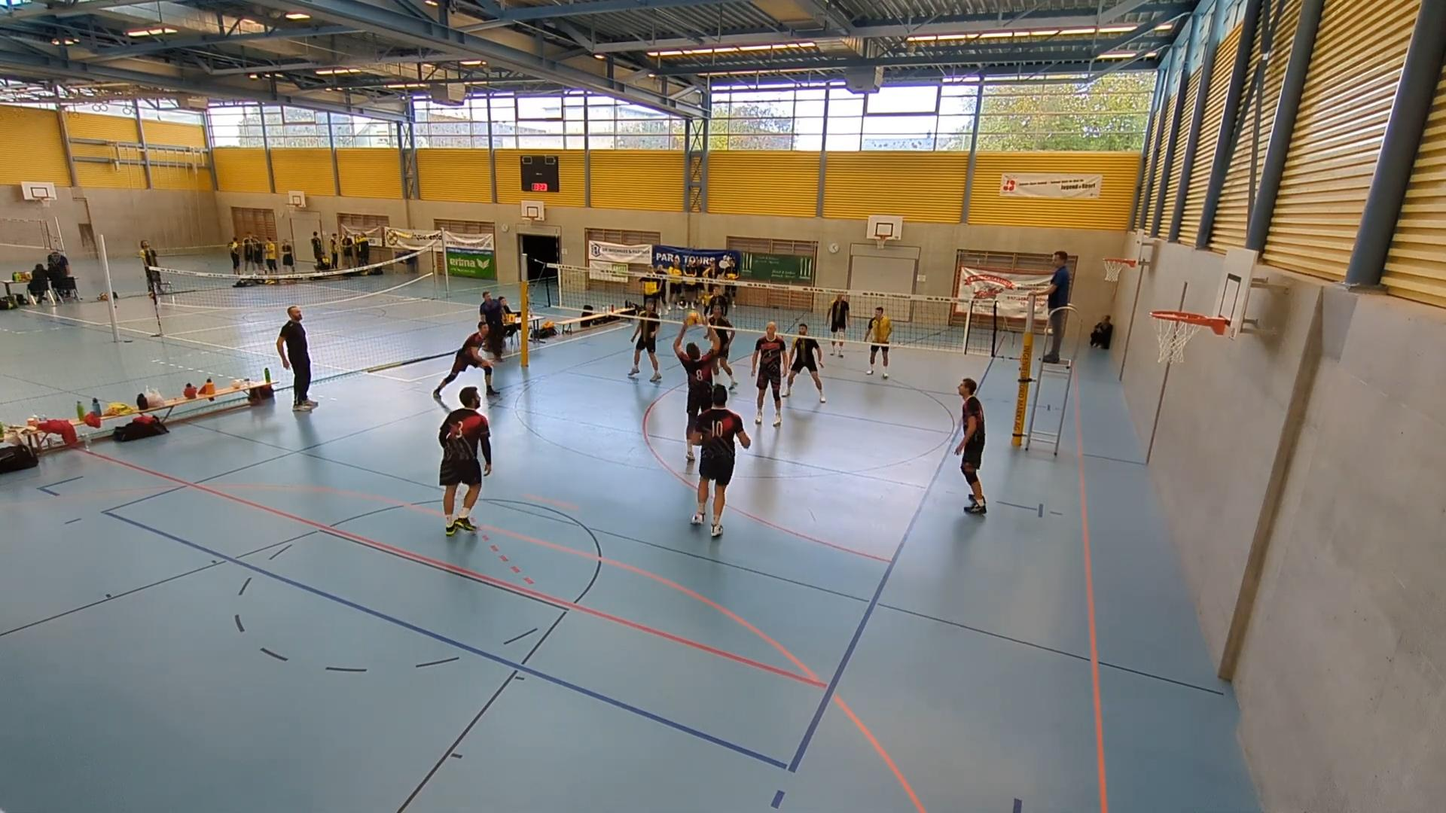Player: (689, 385, 750, 537), (438, 386, 491, 535), (433, 321, 498, 399), (954, 378, 986, 514), (750, 321, 787, 425), (782, 323, 825, 402), (708, 298, 737, 389), (629, 300, 661, 382), (865, 306, 892, 378), (828, 294, 849, 357)
Set: (673, 312, 723, 465)
ball: (687, 312, 709, 324)
